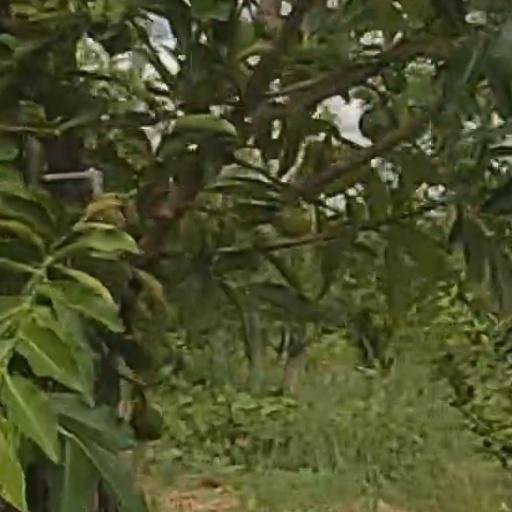acerola: (134, 406, 160, 439), (279, 211, 312, 236)
